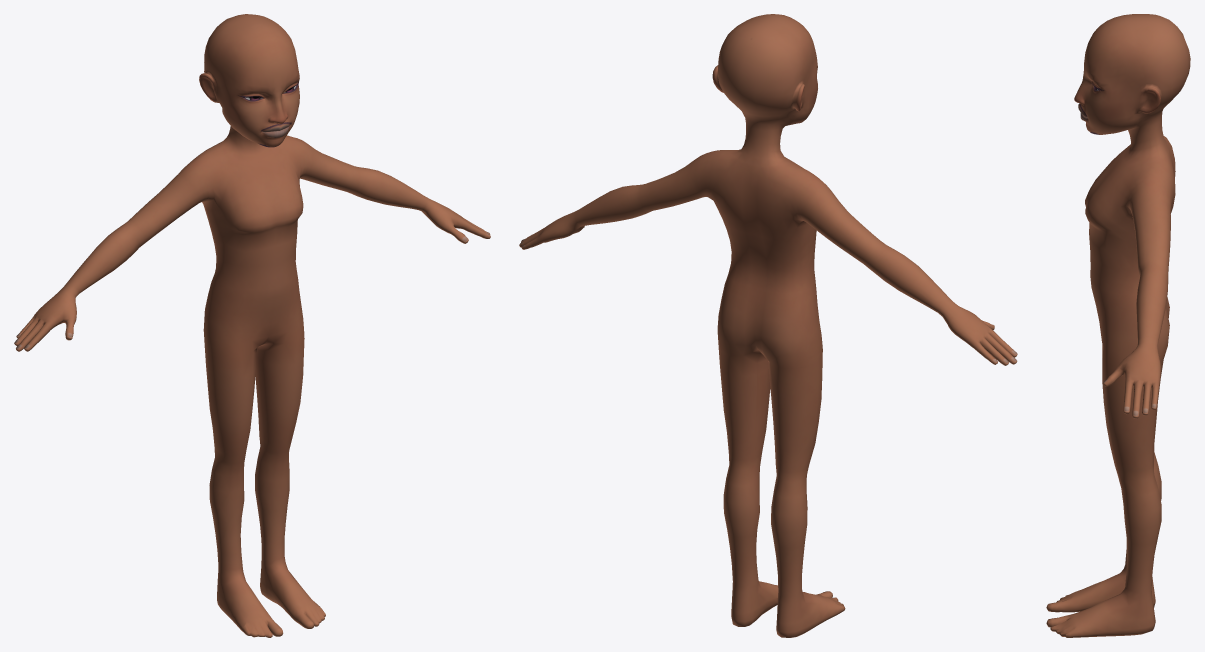
File: frame_0086.glb
3 views of the same model, side by side, from view 1: azimuth 30°, elevation 25°; view 2: azimuth 150°, elevation 25°; view 3: azimuth 270°, elevation 25° (orthographic). The views are drawn at different scales.
Visible parts, largest first — view 1: frame_0086_head_geo; view 2: frame_0086_head_geo; view 3: frame_0086_head_geo.
Part boxes in pixels (x1,y1,x2,y2): frame_0086_head_geo: (14, 14, 490, 637); frame_0086_head_geo: (519, 14, 1017, 637); frame_0086_head_geo: (1046, 14, 1190, 637).
Bounding box in the file's own units: 1.28 × 1.5 × 0.3253.
3 materials, 3 textured.
